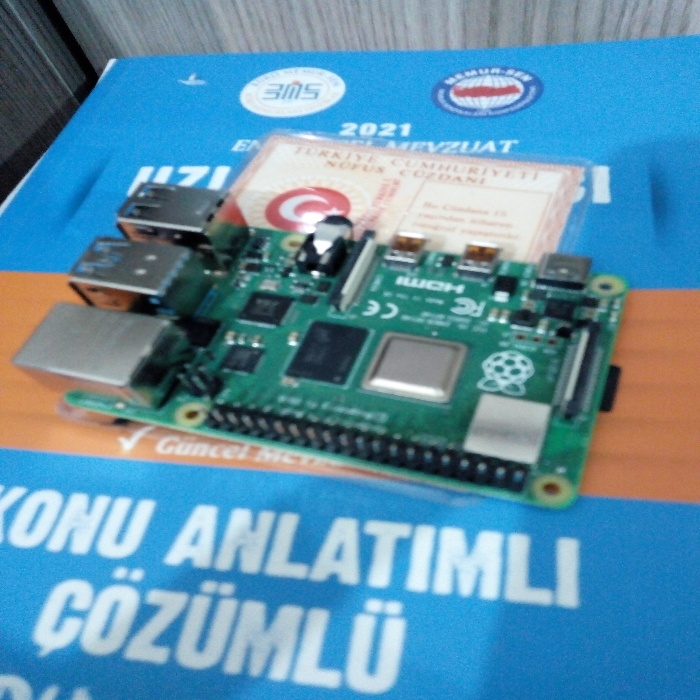raspberry: (7, 154, 639, 520)
